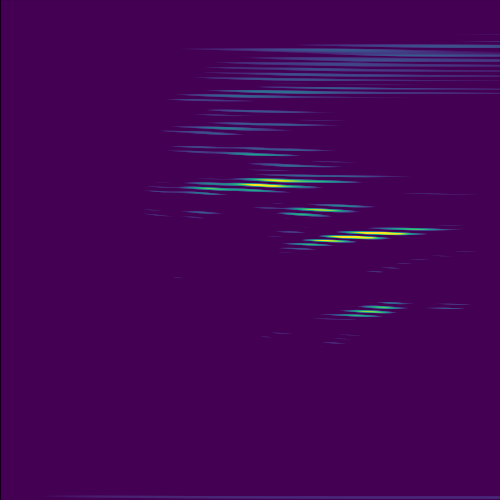semblance: (280, 222, 448, 258), (203, 171, 341, 195), (269, 198, 371, 221)
